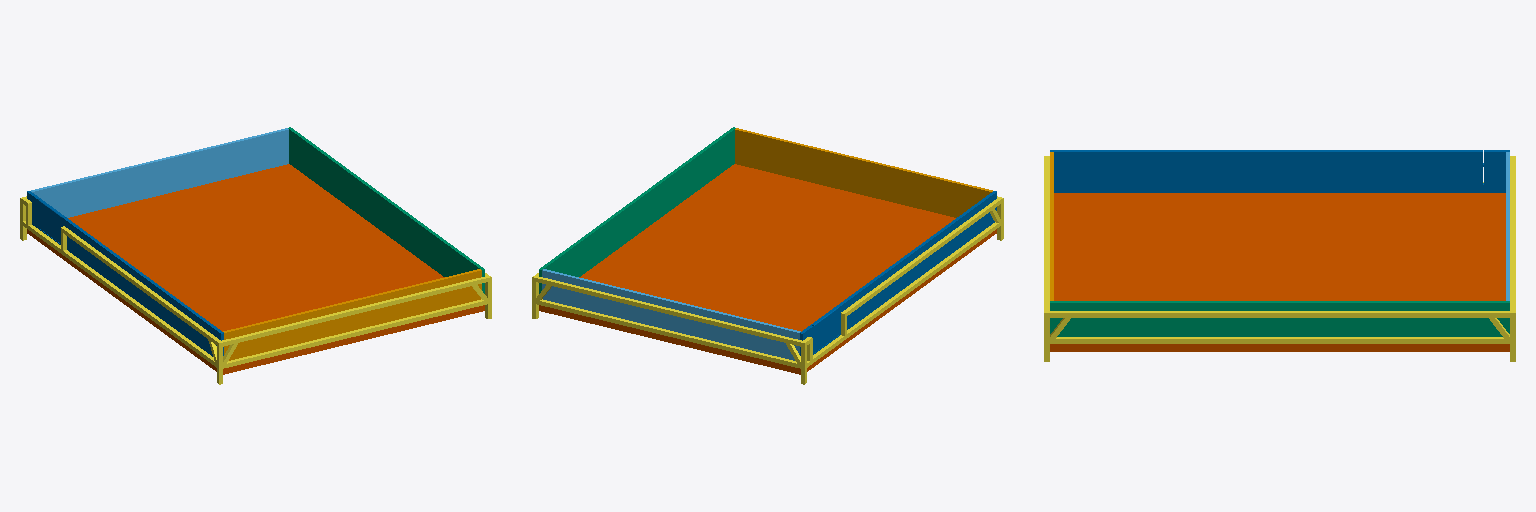
URDF robot description (stage_1):
<?xml version='1.0' encoding='utf-8'?>
<robot name="stage_1">
    <link name="Floor_Wall_1">
        <inertial>
            <origin xyz="-0.025 -0.25 1.95" rpy="0.0 -0.0 0.0" />
            <mass value="765.375" />
            <inertia ixx="986.0581250000008" iyy="970.2722656250007" izz="16.104765625001164" ixy="2.2737367544323206e-13" iyz="0.0" ixz="1.169741153717041e-14" />
        </inertial>
        <visual name="Floor_Wall_1_visual">
            <origin xyz="-2.5500000000000003 0.2 1.95" rpy="1.5707963267948966 -1.5707963267948966 0" />
            <geometry>
                <mesh filename="meshes/Floor_Wall_1.stl" scale="0.001 0.001 0.001" />
            </geometry>
        </visual>
        <collision name="Floor_Wall_1_collision">
            <origin xyz="-2.5500000000000003 0.2 1.95" rpy="1.5707963267948966 -1.5707963267948966 0" />
            <geometry>
                <mesh filename="meshes/Floor_Wall_1.stl" scale="0.001 0.001 0.001" />
            </geometry>
        </collision>
    </link>
    <link name="Floor_Wall_2">
        <inertial>
            <origin xyz="0.025 0.25 1.95" rpy="0.0 -0.0 0.0" />
            <mass value="765.375" />
            <inertia ixx="986.0581250000008" iyy="970.2722656250007" izz="16.104765625001164" ixy="2.2737367544323206e-13" iyz="4.678964614868164e-14" ixz="-7.603317499160767e-13" />
        </inertial>
        <visual name="Floor_Wall_2_visual">
            <origin xyz="2.5500000000000003 -0.2 1.95" rpy="-1.5707963267948966 1.5707963267948966 0" />
            <geometry>
                <mesh filename="meshes/Floor_Wall_2.stl" scale="0.001 0.001 0.001" />
            </geometry>
        </visual>
        <collision name="Floor_Wall_2_collision">
            <origin xyz="2.5500000000000003 -0.2 1.95" rpy="-1.5707963267948966 1.5707963267948966 0" />
            <geometry>
                <mesh filename="meshes/Floor_Wall_2.stl" scale="0.001 0.001 0.001" />
            </geometry>
        </collision>
    </link>
    <link name="Floor_Wall_3">
        <inertial>
            <origin xyz="-0.024999999999999717 -2.5500000000000003 0.25" rpy="0.0 -0.0 0.0" />
            <mass value="1000.8749999999999" />
            <inertia ixx="2190.2481249999996" iyy="21.060078125001382" izz="2169.6050781250005" ixy="0.0" iyz="0.0" ixz="-1.1368683772161603e-13" />
        </inertial>
        <visual name="Floor_Wall_3_visual">
            <origin xyz="-2.0 -2.5500000000000003 -0.2" rpy="0.0 -0.0 0.0" />
            <geometry>
                <mesh filename="meshes/Floor_Wall_3.stl" scale="0.001 0.001 0.001" />
            </geometry>
        </visual>
        <collision name="Floor_Wall_3_collision">
            <origin xyz="-2.0 -2.5500000000000003 -0.2" rpy="0.0 -0.0 0.0" />
            <geometry>
                <mesh filename="meshes/Floor_Wall_3.stl" scale="0.001 0.001 0.001" />
            </geometry>
        </collision>
    </link>
    <link name="Floor_Wood">
        <inertial>
            <origin xyz="1.9719507053447385 0.29995838903113425 -2.5157490879359163" rpy="0.0 -0.0 0.0" />
            <mass value="1151.8563673317265" />
            <inertia ixx="5106.235549384292" iyy="8543.864978764428" izz="3496.282721602195" ixy="-8.194784608478987" iyz="7.9939737680612595" ixz="-81.19757063910134" />
        </inertial>
        <visual name="Floor_Wood_visual">
            <origin xyz="2.0 0.7000000000000001 -2.5500000000000003" rpy="-1.5707963267948966 -0.0 3.141592653589793" />
            <geometry>
                <mesh filename="meshes/Floor_Wood.stl" scale="0.001 0.001 0.001" />
            </geometry>
        </visual>
        <collision name="Floor_Wood_collision">
            <origin xyz="2.0 0.7000000000000001 -2.5500000000000003" rpy="-1.5707963267948966 -0.0 3.141592653589793" />
            <geometry>
                <mesh filename="meshes/Floor_Wood.stl" scale="0.001 0.001 0.001" />
            </geometry>
        </collision>
    </link>
    <link name="Floor_Wall_4">
        <inertial>
            <origin xyz="2.5404561780095434 -0.02500250269188598 0.25013593567365716" rpy="0.0 -0.0 0.0" />
            <mass value="996.0976368180916" />
            <inertia ixx="20.961747824298072" iyy="2170.787878646822" izz="2150.241102837838" ixy="0.004822673573638525" iyz="0.0006170976110979609" ixz="-0.24934380104648923" />
        </inertial>
        <visual name="Floor_Wall_4_visual">
            <origin xyz="2.5500000000000003 -2.0 -0.2" rpy="0.0 -0.0 -1.5707963267948966" />
            <geometry>
                <mesh filename="meshes/Floor_Wall_4.stl" scale="0.001 0.001 0.001" />
            </geometry>
        </visual>
        <collision name="Floor_Wall_4_collision">
            <origin xyz="2.5500000000000003 -2.0 -0.2" rpy="0.0 -0.0 -1.5707963267948966" />
            <geometry>
                <mesh filename="meshes/Floor_Wall_4.stl" scale="0.001 0.001 0.001" />
            </geometry>
        </collision>
    </link>
    <link name="Floor_Base">
        <inertial>
            <origin xyz="0.0 0.0 0.15000000000000002" rpy="0.0 0.0 0.0" />
            <mass value="16014.0" />
            <inertia ixx="34723.69000000001" iyy="21365.345000000023" izz="56062.34500000004" ixy="0.0" iyz="0.0" ixz="1.8715858459472656e-13" />
        </inertial>
        <visual name="Floor_Base_visual">
            <origin xyz="0.0 0.0 0.0" rpy="0.0 0.0 0.0" />
            <geometry>
                <mesh filename="meshes/Floor_Base.stl" scale="0.001 0.001 0.001" />
            </geometry>
        </visual>
        <collision name="Floor_Base_collision">
            <origin xyz="0.0 0.0 0.0" rpy="0.0 0.0 0.0" />
            <geometry>
                <mesh filename="meshes/Floor_Base.stl" scale="0.001 0.001 0.001" />
            </geometry>
        </collision>
    </link>
    <joint name="Floor_Base_Rígido-1" type="fixed">
        <origin xyz="-2.0 -2.5500000000000003 0.2" rpy="0.0 -0.0 1.5707963267948966" />
        <parent link="Floor_Base" />
        <child link="Floor_Wall_4" />
    </joint>
    <joint name="Floor_Base_Rígido-2" type="fixed">
        <origin xyz="2.0 2.5500000000000003 0.2" rpy="0.0 -0.0 0.0" />
        <parent link="Floor_Base" />
        <child link="Floor_Wall_3" />
    </joint>
    <joint name="Floor_Wall_3_Rígido-3" type="fixed">
        <origin xyz="-0.05 0.0 0.0" rpy="1.5707963267948966 -0.0 -1.5707963267948966" />
        <parent link="Floor_Wall_3" />
        <child link="Floor_Wall_2" />
    </joint>
    <joint name="Floor_Wall_4_Rígido-4" type="fixed">
        <origin xyz="0.0 -0.05 0.0" rpy="-1.5707963267948966 -0.0 3.141592653589793" />
        <parent link="Floor_Wall_4" />
        <child link="Floor_Wall_1" />
    </joint>
    <joint name="Floor_Wall_3_Rígido-5" type="fixed">
        <origin xyz="0.0 -5.1000000000000005 0.5" rpy="-1.5707963267948966 -0.0 3.141592653589793" />
        <parent link="Floor_Wall_3" />
        <child link="Floor_Wood" />
    </joint>
</robot>

--- Render facts (derived) ---
3 views of the same robot in one strip: view 1: azimuth 30°, elevation 25°; view 2: azimuth 150°, elevation 25°; view 3: azimuth 270°, elevation 25° (orthographic).
Model stage_1 with 6 links and 5 joints (5 fixed), rooted at Floor_Base, posed every joint at zero.
Visible links, largest first — view 1: Floor_Base, Floor_Wall_2, Floor_Wood, Floor_Wall_3, Floor_Wall_1, Floor_Wall_4; view 2: Floor_Base, Floor_Wall_1, Floor_Wood, Floor_Wall_3, Floor_Wall_2, Floor_Wall_4; view 3: Floor_Base, Floor_Wall_4, Floor_Wall_3, Floor_Wood, Floor_Wall_1, Floor_Wall_2.
Link boxes in pixels (bbox=[...]): Floor_Base: bbox=[27, 164, 484, 374]; Floor_Wall_2: bbox=[31, 128, 288, 217]; Floor_Wood: bbox=[20, 196, 491, 384]; Floor_Wall_3: bbox=[288, 127, 484, 293]; Floor_Wall_1: bbox=[223, 269, 481, 360]; Floor_Wall_4: bbox=[27, 191, 223, 356]; Floor_Base: bbox=[539, 164, 996, 374]; Floor_Wall_1: bbox=[735, 128, 992, 217]; Floor_Wood: bbox=[532, 196, 1003, 384]; Floor_Wall_3: bbox=[539, 127, 735, 293]; Floor_Wall_2: bbox=[542, 269, 800, 360]; Floor_Wall_4: bbox=[800, 191, 996, 355]; Floor_Base: bbox=[1050, 193, 1509, 351]; Floor_Wall_4: bbox=[1050, 150, 1509, 192]; Floor_Wall_3: bbox=[1050, 301, 1509, 336]; Floor_Wood: bbox=[1044, 156, 1515, 361]; Floor_Wall_1: bbox=[1050, 152, 1053, 300]; Floor_Wall_2: bbox=[1506, 152, 1509, 300].
Size in the robot's own frame: 4.12 by 5.22 by 0.7 metres.
6 mesh visuals loaded from 6 distinct referenced files (6 binary STL).